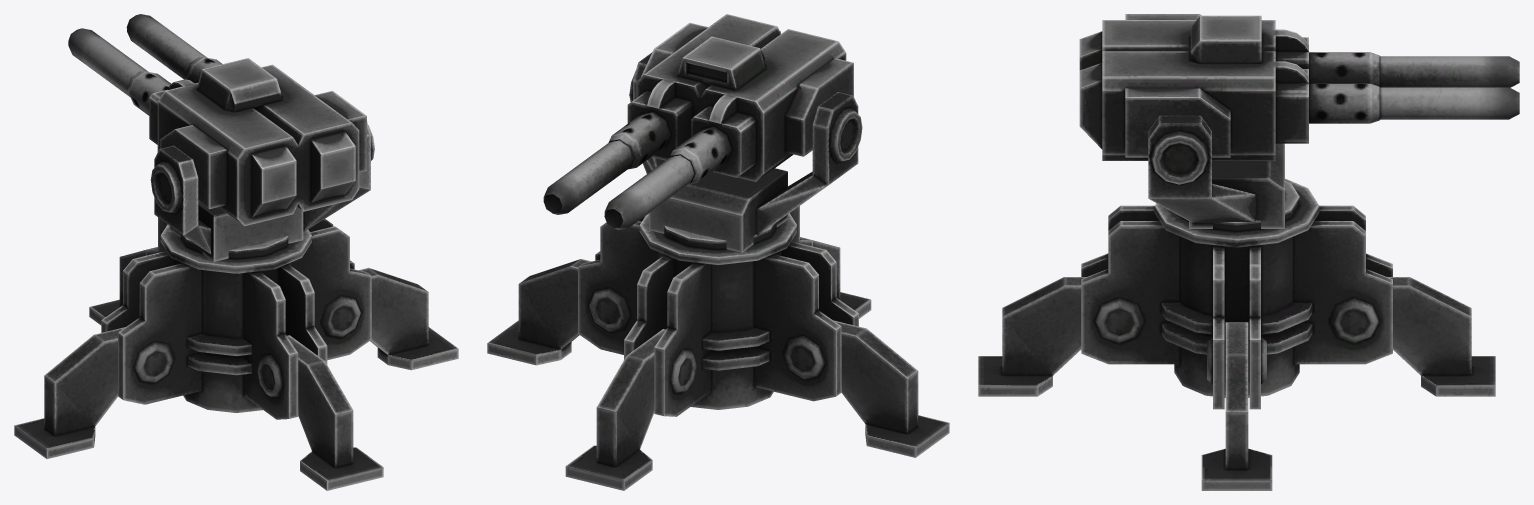
File: AC10_Turret.FBX
The picture shows the model from 3 angles, left to right: view 1: azimuth 30°, elevation 25°; view 2: azimuth 150°, elevation 25°; view 3: azimuth 270°, elevation 25°; orthographic projection. The views are drawn at different scales.
Parts seen in each view (by area): view 1: base, mantlet_1, turret, leg_4, leg_1, leg_2, barrel_1, barrel_2, leg_3; view 2: base, mantlet_1, turret, leg_4, leg_3, leg_2, barrel_1, barrel_2, leg_1; view 3: base, mantlet_1, turret, leg_1, leg_3, leg_2, barrel_2, barrel_1.
Part boxes in pixels (x1=…): base: x1=101, y1=217, x2=371, y2=419; mantlet_1: x1=127, y1=57, x2=366, y2=226; turret: x1=150, y1=121, x2=374, y2=261; leg_4: x1=14, y1=327, x2=125, y2=458; leg_1: x1=287, y1=335, x2=383, y2=490; leg_2: x1=359, y1=267, x2=458, y2=370; barrel_1: x1=68, y1=28, x2=148, y2=97; barrel_2: x1=126, y1=14, x2=206, y2=79; leg_3: x1=89, y1=247, x2=157, y2=325; base: x1=578, y1=206, x2=858, y2=416; mantlet_1: x1=608, y1=14, x2=853, y2=184; turret: x1=629, y1=52, x2=862, y2=252; leg_4: x1=833, y1=320, x2=949, y2=457; leg_3: x1=565, y1=329, x2=665, y2=490; leg_2: x1=487, y1=259, x2=591, y2=365; barrel_1: x1=604, y1=154, x2=695, y2=229; barrel_2: x1=543, y1=139, x2=634, y2=214; leg_1: x1=800, y1=237, x2=871, y2=318; base: x1=1081, y1=178, x2=1392, y2=409; mantlet_1: x1=1079, y1=14, x2=1379, y2=160; turret: x1=1148, y1=115, x2=1284, y2=228; leg_1: x1=978, y1=277, x2=1086, y2=396; leg_3: x1=1387, y1=277, x2=1495, y2=396; leg_2: x1=1201, y1=322, x2=1272, y2=490; barrel_2: x1=1379, y1=87, x2=1519, y2=119; barrel_1: x1=1379, y1=56, x2=1519, y2=87.
Size of the model in its own units: 31.68 by 23.9 by 33.15.
Materials: 1 (1 with a texture image).
